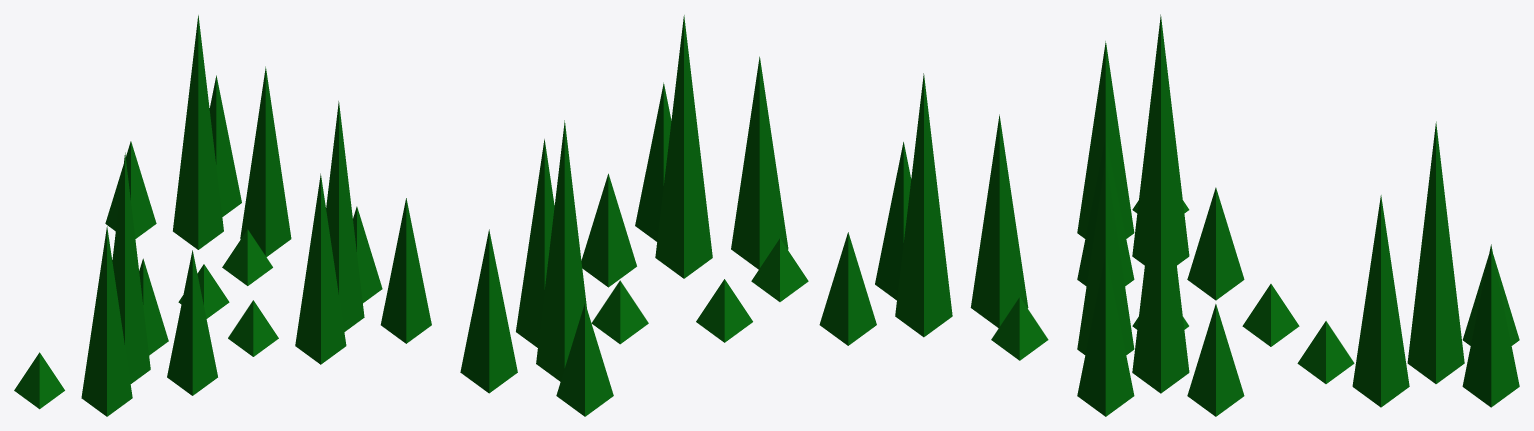
File: TripleGrass.fbx
3 views of the same model, side by side, from view 1: azimuth 30°, elevation 25°; view 2: azimuth 150°, elevation 25°; view 3: azimuth 270°, elevation 25° (orthographic). The views are drawn at different scales.
Visible parts, largest first — view 1: TrippleGrass; view 2: TrippleGrass; view 3: TrippleGrass.
Boxes of the visible parts, left/top/right/bottom form: TrippleGrass: left=14, top=15, right=431, bottom=416; TrippleGrass: left=460, top=15, right=1048, bottom=416; TrippleGrass: left=1077, top=14, right=1519, bottom=416.
Bounding box in the file's own units: 44.5 × 25 × 40.2.
